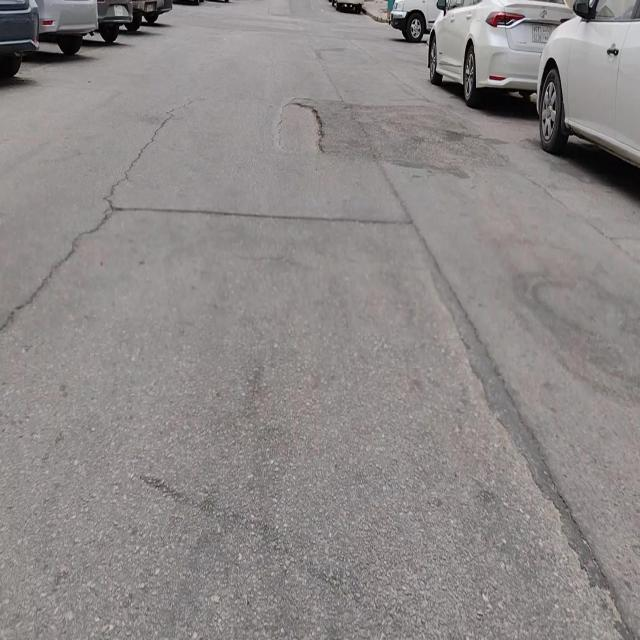Pothole: (277, 101, 325, 152)
